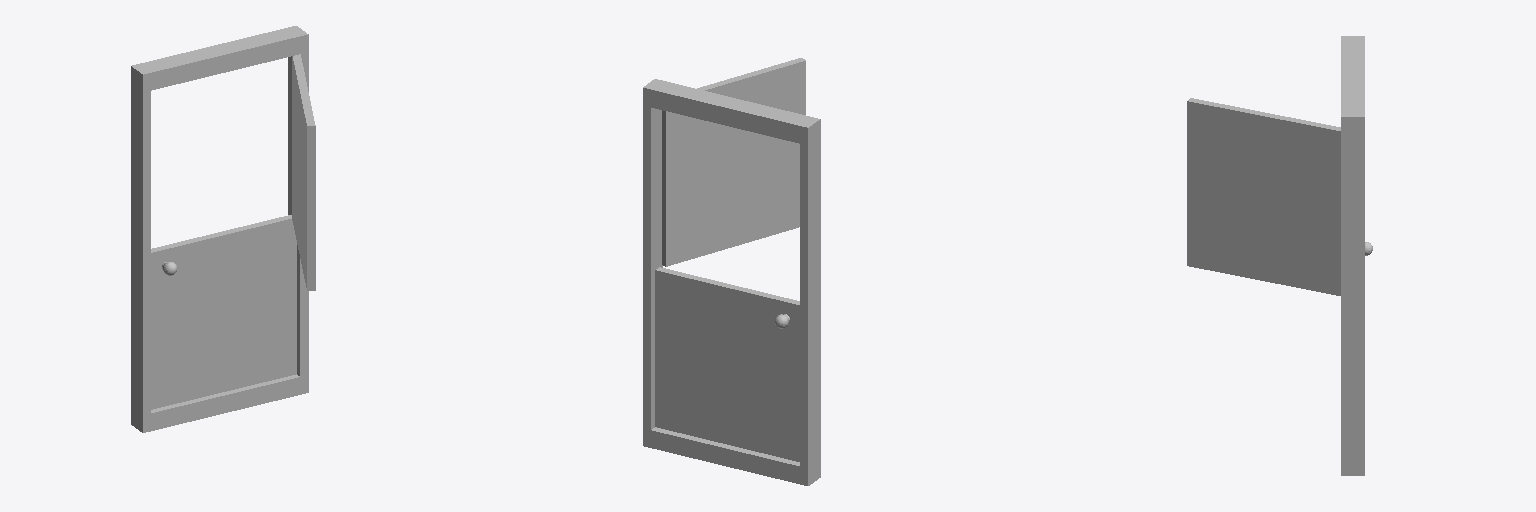
The model's file is DoorSplit.obj.
The picture shows the model from 3 angles: view 1: azimuth 30°, elevation 25°; view 2: azimuth 150°, elevation 25°; view 3: azimuth 270°, elevation 25°; orthographic projection.
Visible parts, largest first — view 1: DoorSplit.obj; view 2: DoorSplit.obj; view 3: DoorSplit.obj.
Part boxes in pixels (bbox=[...]): DoorSplit.obj: bbox=[131, 26, 315, 432]; DoorSplit.obj: bbox=[643, 58, 820, 485]; DoorSplit.obj: bbox=[1187, 36, 1372, 475].
Size of the model in its own units: 10.45 by 21.62 by 10.15.